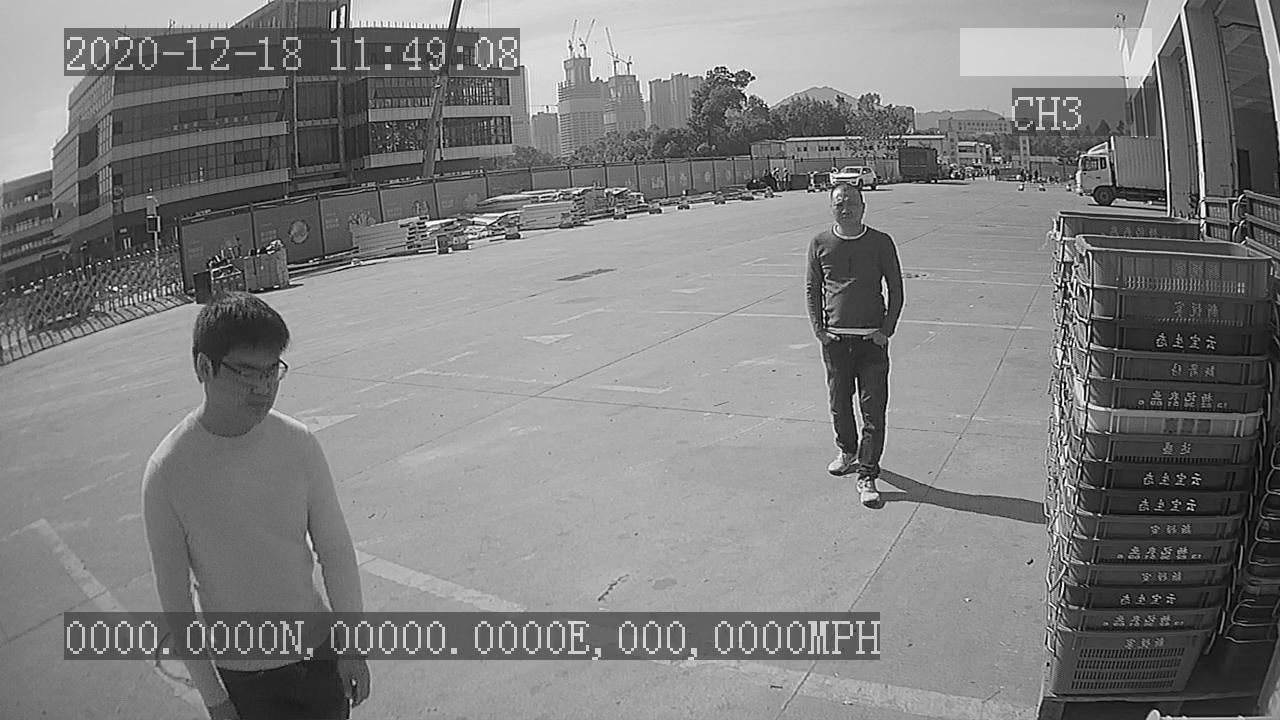person: (802, 179, 909, 511)
